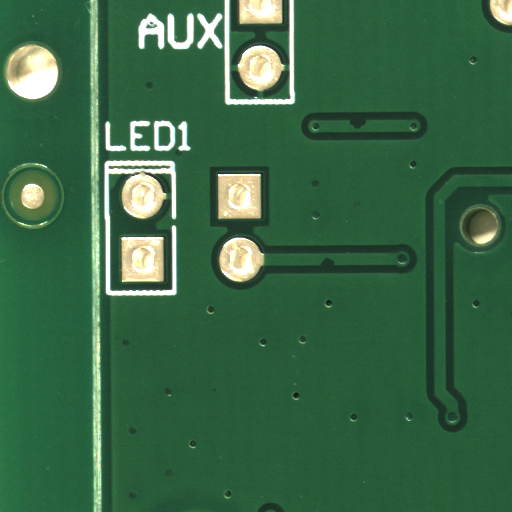Mouse_bite: (359, 123, 377, 134), (327, 263, 342, 273)
